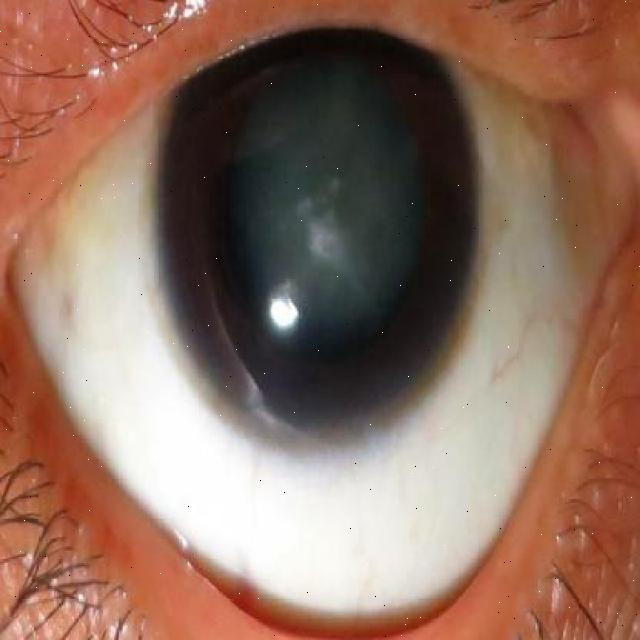Cataract: (158, 0, 485, 459)
